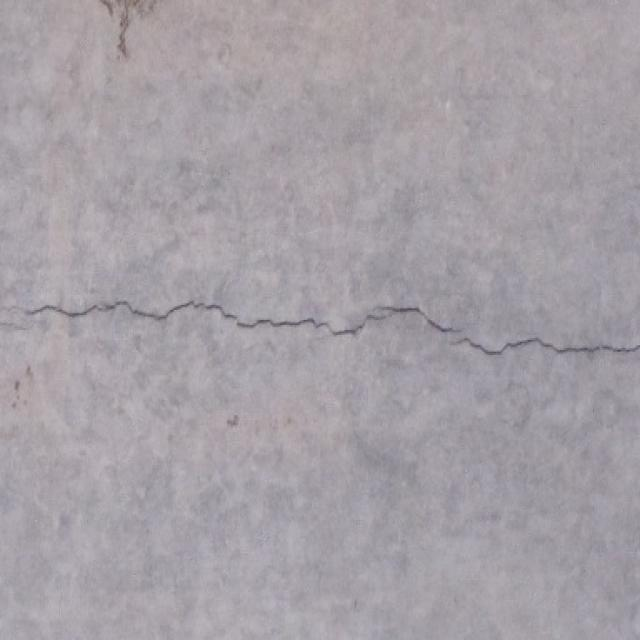Transverse: (3, 291, 640, 407)
